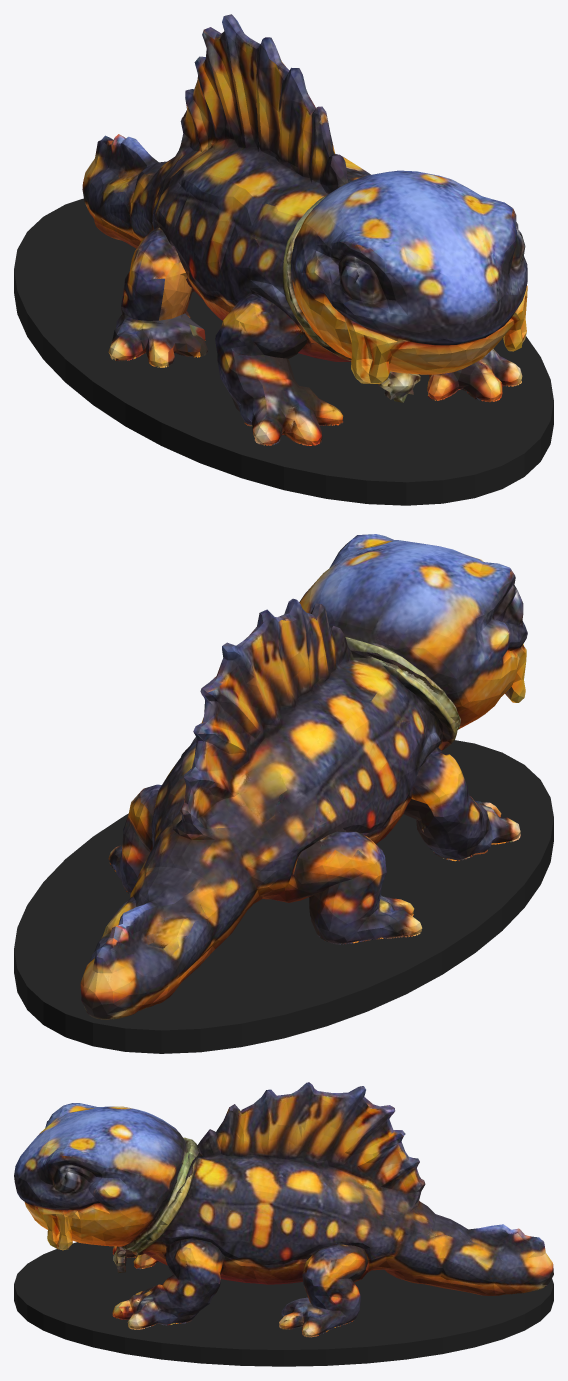
File: ser-spawn-of-chotec.glb
The picture shows the model from 3 angles, top to bottom: view 1: azimuth 30°, elevation 25°; view 2: azimuth 150°, elevation 25°; view 3: azimuth 270°, elevation 25°; orthographic projection. The views are drawn at different scales.
Parts seen in each view (by area): view 1: figure, base; view 2: figure, base; view 3: figure, base.
Part boxes in pixels (left/top/right/bottom): figure: left=82, top=14, right=527, bottom=445; base: left=14, top=198, right=553, bottom=505; figure: left=80, top=534, right=527, bottom=1019; base: left=14, top=740, right=553, bottom=1053; figure: left=14, top=1082, right=553, bottom=1337; base: left=14, top=1242, right=553, bottom=1366.
Bounding box in the file's own units: 2.05 × 1.58 × 3.54.
2 materials, 1 textured.
